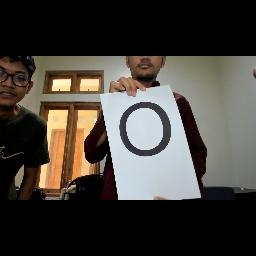o: (111, 95, 177, 157)
